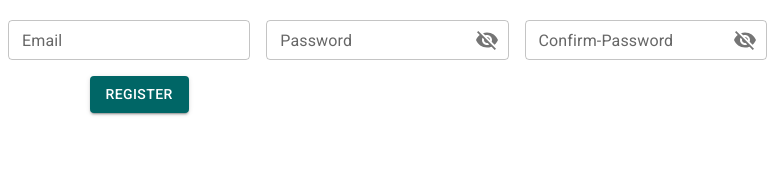
Test input validations at Registeration page › Password should be >8 chars, contain atleast one letter and one digit
This screenshot has width=784, height=176.
Type "123" into the password field labelled "Password" at [362, 40], box [266,20,459,60]
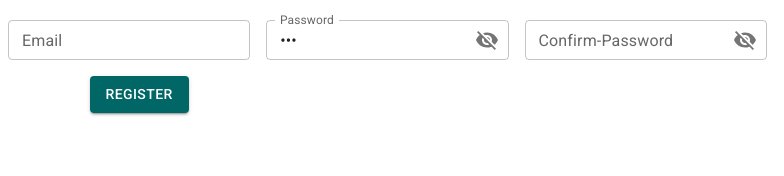
Click the button "REGISTER" at [139, 94], box [90,76,189,112]
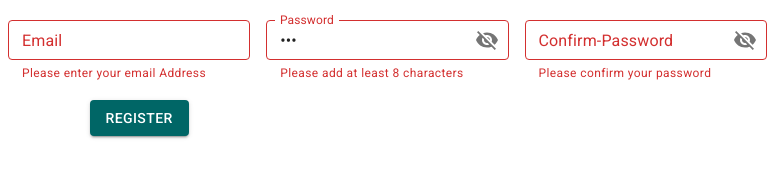
Check: the text "Please add at least 8 characters" is shown, box [280,64,495,84]
case 2: doesnot contain letters
Type "12345678" into the password field labelled "Password" at [362, 40], box [266,20,459,60]
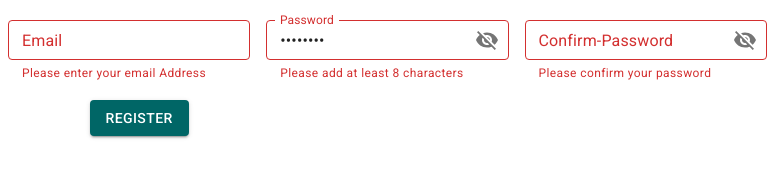
Click the button "REGISTER" at [139, 118], box [90,100,189,136]
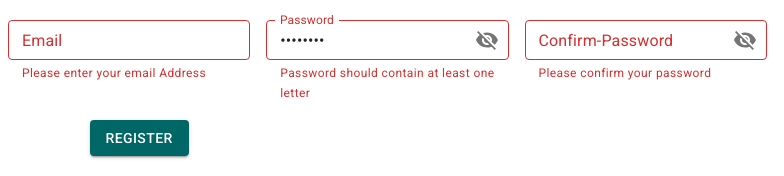
Check: the text "Password should contain at least one letter" is shown, box [280,64,495,104]
case 3: doesnot contain digits
Type "abcopqwensd" into the password field labelled "Password" at [362, 40], box [266,20,459,60]
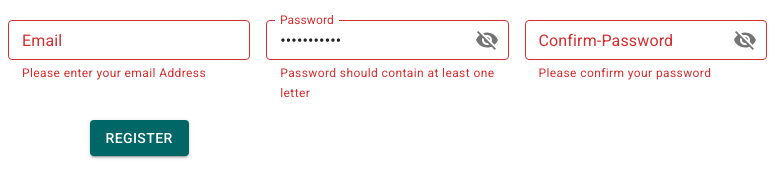
Click the button "REGISTER" at [139, 138], box [90,120,189,156]
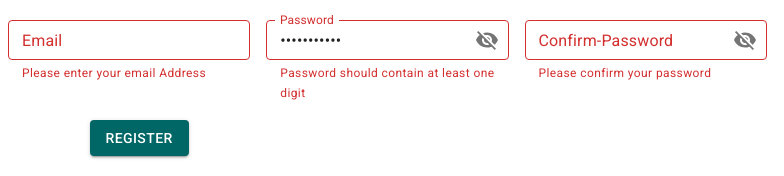
Check: the text "Password should contain at least one digit" is shown, box [280,64,495,104]
